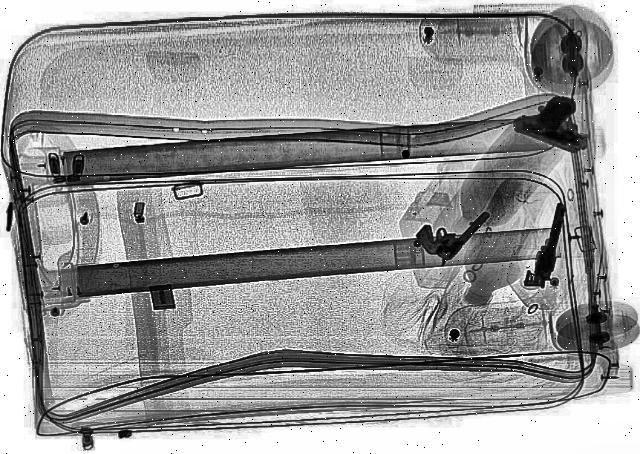Gun: (503, 81, 613, 156), (400, 199, 506, 265), (519, 200, 579, 290)
